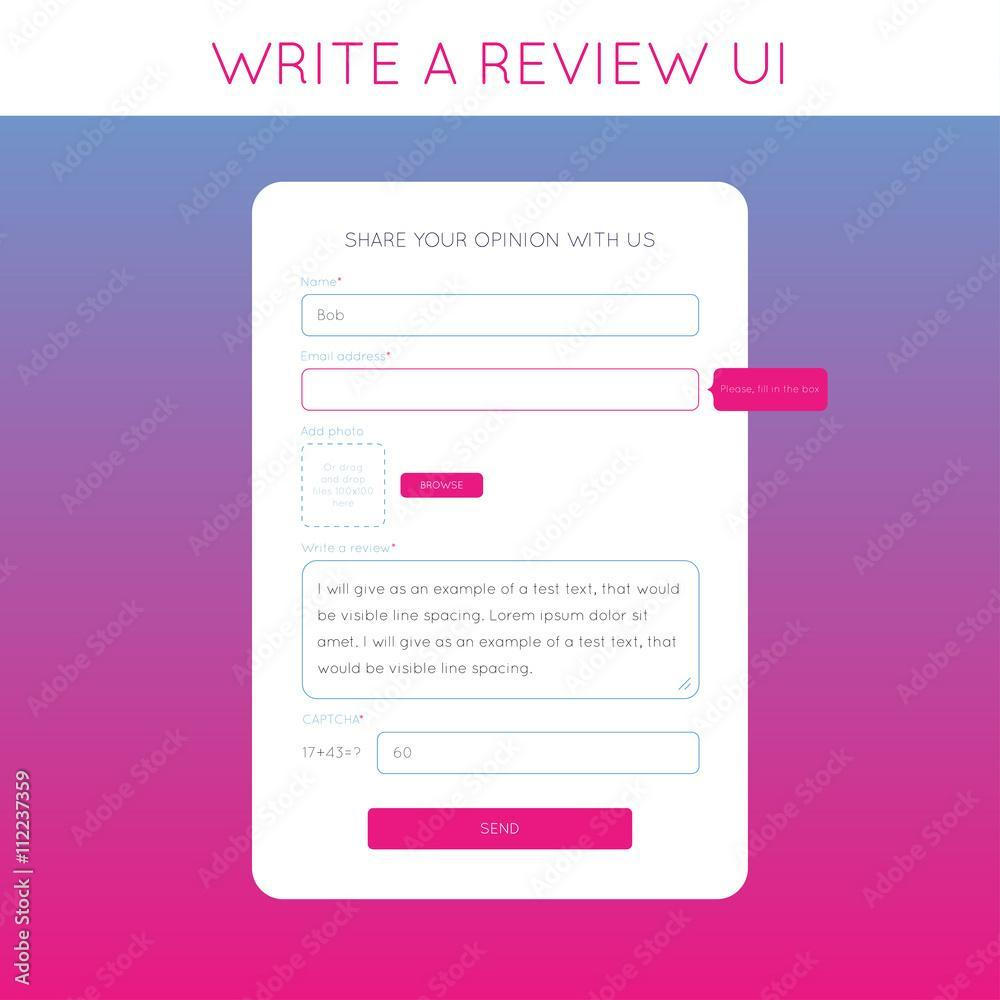button: (368, 809, 635, 852), (401, 473, 485, 501)
input: (301, 368, 702, 413), (301, 294, 702, 338), (377, 731, 704, 779)
label: (346, 232, 657, 251), (300, 350, 394, 365), (302, 543, 399, 555), (300, 427, 366, 440), (304, 713, 365, 726), (301, 276, 343, 289)
